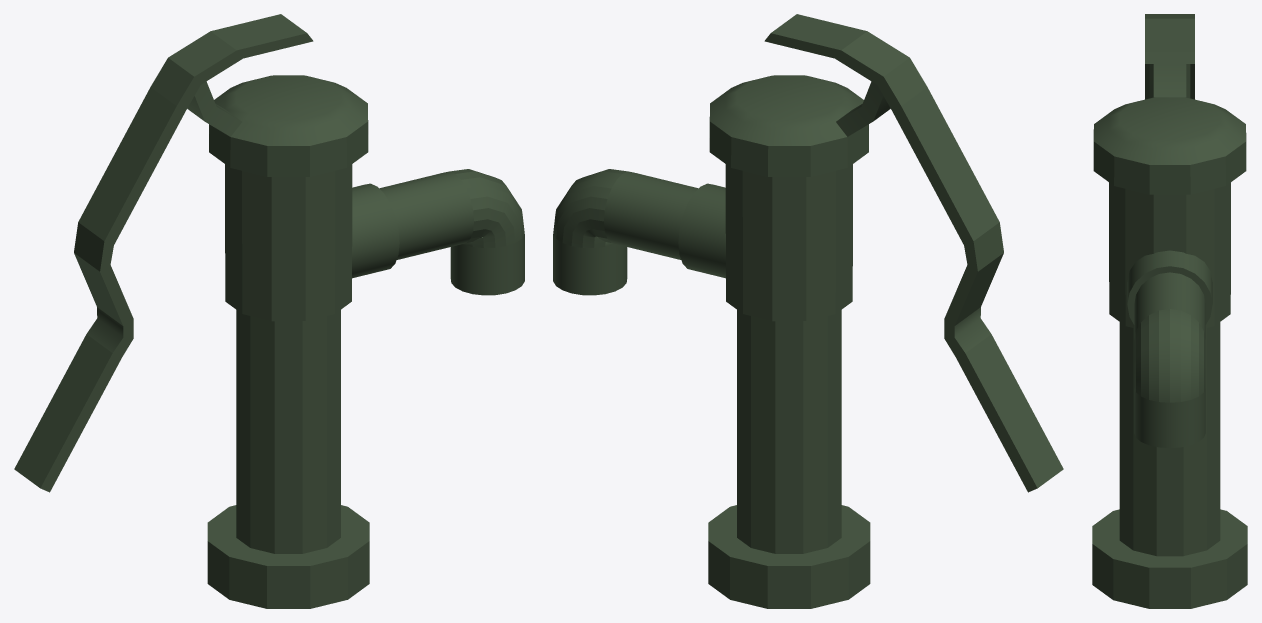
File: Pump.fbx
3 views of the same model, side by side, from view 1: azimuth 30°, elevation 25°; view 2: azimuth 150°, elevation 25°; view 3: azimuth 270°, elevation 25° (orthographic). The views are drawn at different scales.
Parts seen in each view (by area): view 1: Pump; view 2: Pump; view 3: Pump.
Boxes of the visible parts, <box> form: Pump: <box>14,14,524,608</box>; Pump: <box>553,14,1063,608</box>; Pump: <box>1092,14,1247,608</box>.
Bounding box in the file's own units: 4.07 × 4.34 × 1.16.
